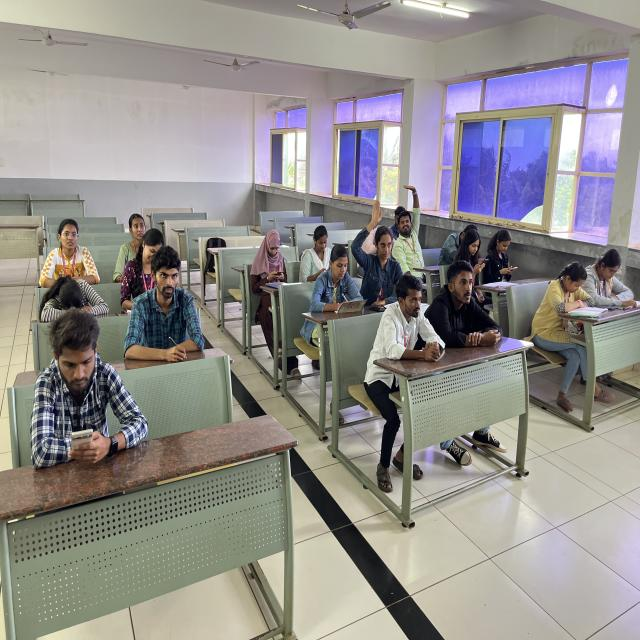Hand Rising: (353, 196, 405, 289), (388, 175, 425, 265)
Reading: (541, 250, 601, 326), (583, 226, 640, 306)
Sleeping: (31, 260, 112, 322)
Using Phone: (30, 311, 158, 544), (240, 217, 304, 313), (487, 215, 542, 292), (295, 211, 339, 285), (454, 226, 492, 286)
Writing: (125, 245, 228, 371), (310, 244, 368, 322)
